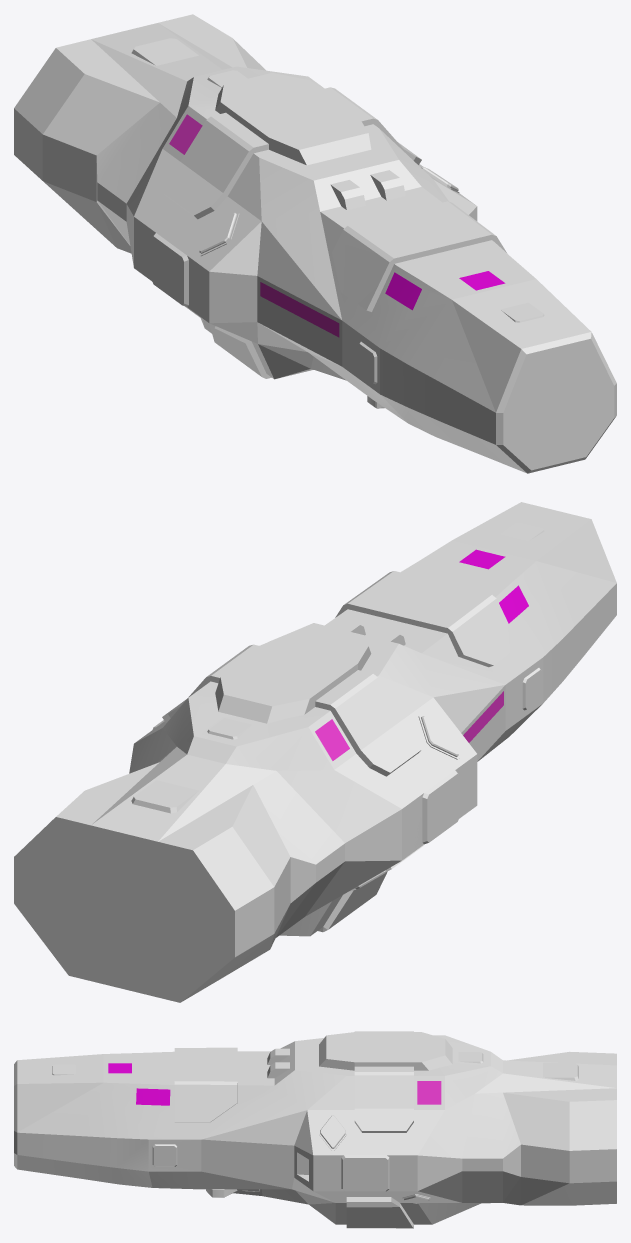
The model's file is Moccatar Remake Collider.fbx.
3 views of the same model, one above another, from view 1: azimuth 30°, elevation 25°; view 2: azimuth 150°, elevation 25°; view 3: azimuth 270°, elevation 25° (orthographic). The views are drawn at different scales.
Visible parts, largest first — view 1: RMocc_Bow_Collider.012, RMocc_Mid_Collider.001, RMocc_Stern_Collider.014, RMocc_Bow_Collider.016, RMocc_Mid_Collider.017, RMocc_Mid_Collider.005, RMocc_Bow_Collider.013, RMocc_Bow_Collider.017, RMocc_Mid_Collider.015, RMocc_Stern_Collider.012, RMocc_Mid_Collider.002, RMocc_Mid_Collider.007 (+10 smaller); view 2: RMocc_Stern_Collider.014, RMocc_Mid_Collider.017, RMocc_Bow_Collider.016, RMocc_Mid_Collider.007, RMocc_Mid_Collider.005, RMocc_Bow_Collider.013, RMocc_Mid_Collider.001, RMocc_Stern_Collider.012, RMocc_Mid_Collider.015, RMocc_Bow_Collider.012, RMocc_Mid_Collider.002, RMocc_Bow_Collider.017 (+7 smaller); view 3: RMocc_Stern_Collider.014, RMocc_Bow_Collider.016, RMocc_Mid_Collider.017, RMocc_Mid_Collider.001, RMocc_Bow_Collider.017, RMocc_Mid_Collider.015, RMocc_Mid_Collider.007, RMocc_Bow_Collider.012, RMocc_Mid_Collider.005, RMocc_Bow_Collider.013, RMocc_Bow_Collider.015, RMocc_Stern_Collider.012 (+11 smaller).
Part boxes in pixels (<box>): RMocc_Bow_Collider.012: <box>452,279,616,473</box>; RMocc_Mid_Collider.001: <box>257,128,448,366</box>; RMocc_Stern_Collider.014: <box>14,14,265,247</box>; RMocc_Bow_Collider.016: <box>320,187,535,412</box>; RMocc_Mid_Collider.017: <box>126,120,476,343</box>; RMocc_Mid_Collider.005: <box>215,73,371,165</box>; RMocc_Bow_Collider.013: <box>332,201,506,311</box>; RMocc_Bow_Collider.017: <box>380,348,526,473</box>; RMocc_Mid_Collider.015: <box>96,103,176,245</box>; RMocc_Stern_Collider.012: <box>91,23,232,117</box>; RMocc_Mid_Collider.002: <box>180,87,403,195</box>; RMocc_Mid_Collider.007: <box>162,66,378,220</box>; RMocc_Stern_Collider.014: <box>14,762,290,1002</box>; RMocc_Mid_Collider.017: <box>129,697,477,916</box>; RMocc_Bow_Collider.016: <box>325,540,616,684</box>; RMocc_Mid_Collider.007: <box>163,675,432,770</box>; RMocc_Mid_Collider.005: <box>215,629,371,723</box>; RMocc_Bow_Collider.013: <box>335,571,519,667</box>; RMocc_Mid_Collider.001: <box>259,623,505,761</box>; RMocc_Stern_Collider.012: <box>91,747,275,841</box>; RMocc_Mid_Collider.015: <box>157,748,344,937</box>; RMocc_Bow_Collider.012: <box>452,502,616,582</box>; RMocc_Mid_Collider.002: <box>180,644,403,753</box>; RMocc_Bow_Collider.017: <box>543,583,616,702</box>; RMocc_Stern_Collider.014: <box>503,1051,616,1205</box>; RMocc_Bow_Collider.016: <box>18,1051,274,1139</box>; RMocc_Mid_Collider.017: <box>294,1094,474,1202</box>; RMocc_Mid_Collider.001: <box>201,1038,353,1189</box>; RMocc_Bow_Collider.017: <box>17,1132,152,1187</box>; RMocc_Mid_Collider.015: <box>462,1092,520,1202</box>; RMocc_Mid_Collider.007: <box>308,1035,502,1109</box>; RMocc_Bow_Collider.012: <box>14,1054,103,1168</box>; RMocc_Mid_Collider.005: <box>319,1032,452,1070</box>; RMocc_Bow_Collider.013: <box>174,1047,237,1122</box>; RMocc_Bow_Collider.015: <box>148,1139,290,1189</box>; RMocc_Stern_Collider.012: <box>475,1060,616,1093</box>.
Bounding box in the file's own units: 743 × 2028 × 607.
